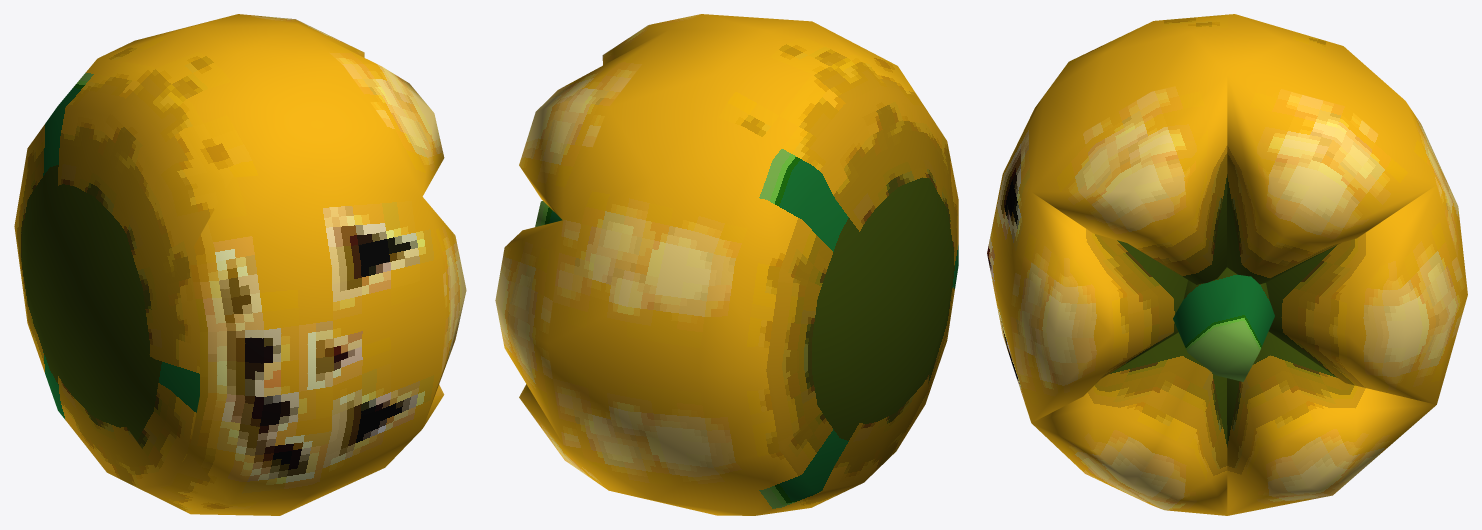
The model's file is hlmt_jackolantern_2.dae.
3 renders of one model, left to right at view 1: azimuth 30°, elevation 25°; view 2: azimuth 150°, elevation 25°; view 3: azimuth 270°, elevation 25°, orthographic.
Visible parts, largest first — view 1: hlmt_jackolantern_2; view 2: hlmt_jackolantern_2; view 3: hlmt_jackolantern_2.
Part boxes in pixels (x1,y1,x2,y2): hlmt_jackolantern_2: (14,14,466,515); hlmt_jackolantern_2: (495,14,958,515); hlmt_jackolantern_2: (987,14,1467,515).
Bounding box in the file's own units: 23 × 28.37 × 27.49.
2 materials, 2 textured.
